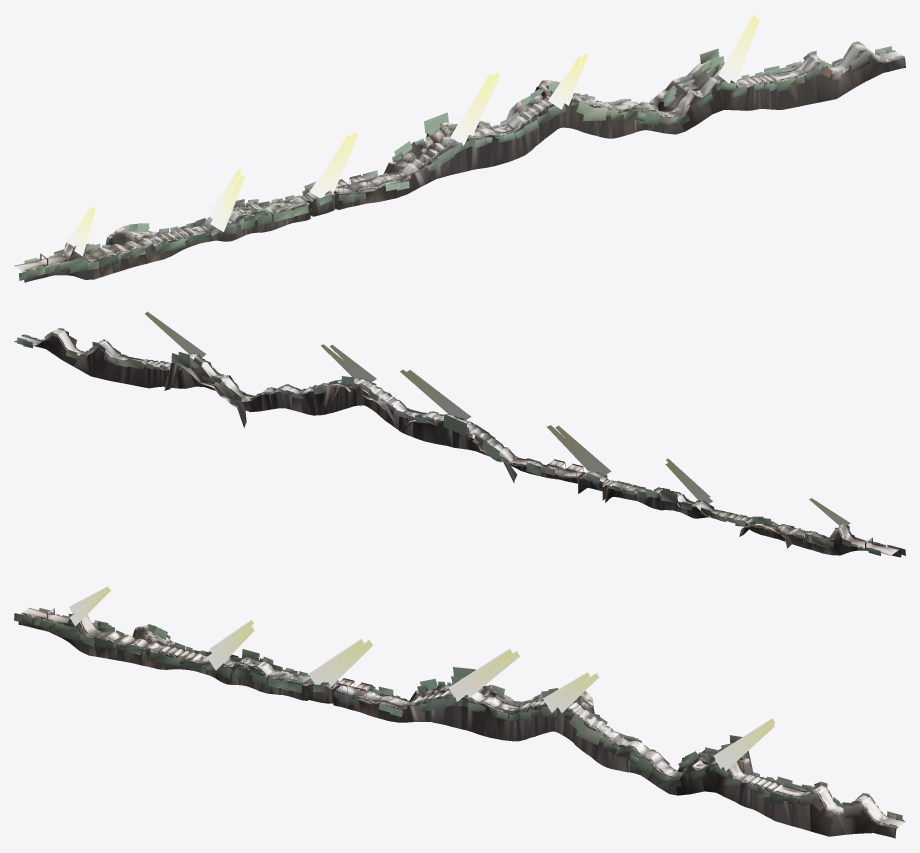
The model's file is Forest_14.fbx.
3 renders of one model, top to bottom at view 1: azimuth 30°, elevation 25°; view 2: azimuth 150°, elevation 25°; view 3: azimuth 330°, elevation 25°, orthographic.
Visible parts, largest first — view 1: Mountain_05, Tree_01_A, Light_01_V, Ground_01; view 2: Mountain_05, Tree_01_A, Ground_01, Light_01_V; view 3: Mountain_05, Tree_01_A, Light_01_V, Ground_01.
Boxes of the visible parts, x1,y1,x2,y2 form: Mountain_05: [22, 49, 905, 282]; Tree_01_A: [19, 41, 904, 280]; Light_01_V: [67, 14, 759, 256]; Ground_01: [14, 43, 901, 271]; Mountain_05: [22, 329, 901, 557]; Tree_01_A: [15, 328, 905, 555]; Ground_01: [14, 329, 898, 555]; Light_01_V: [145, 311, 850, 527]; Mountain_05: [18, 613, 896, 838]; Tree_01_A: [14, 608, 905, 827]; Light_01_V: [69, 586, 775, 770]; Ground_01: [21, 607, 904, 826].
Size of the model in its own units: 97473 by 10364 by 4341.
